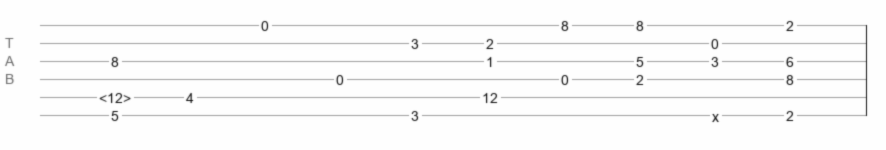0: (261, 18, 269, 28), (336, 72, 344, 82), (561, 72, 569, 82), (711, 36, 719, 46)
1: (486, 54, 494, 64)
12: (482, 90, 498, 100)
2: (486, 36, 494, 46), (636, 72, 644, 82), (786, 18, 794, 28), (786, 108, 794, 118)
3: (411, 36, 419, 46), (411, 108, 419, 118), (711, 54, 719, 64)
4: (186, 90, 194, 100)
5: (111, 108, 119, 118), (636, 54, 644, 64)
6: (786, 54, 794, 64)
8: (111, 54, 119, 64), (561, 18, 569, 28), (636, 18, 644, 28), (786, 72, 794, 82)
harmonic: (99, 90, 131, 100)
x: (712, 109, 719, 117)
